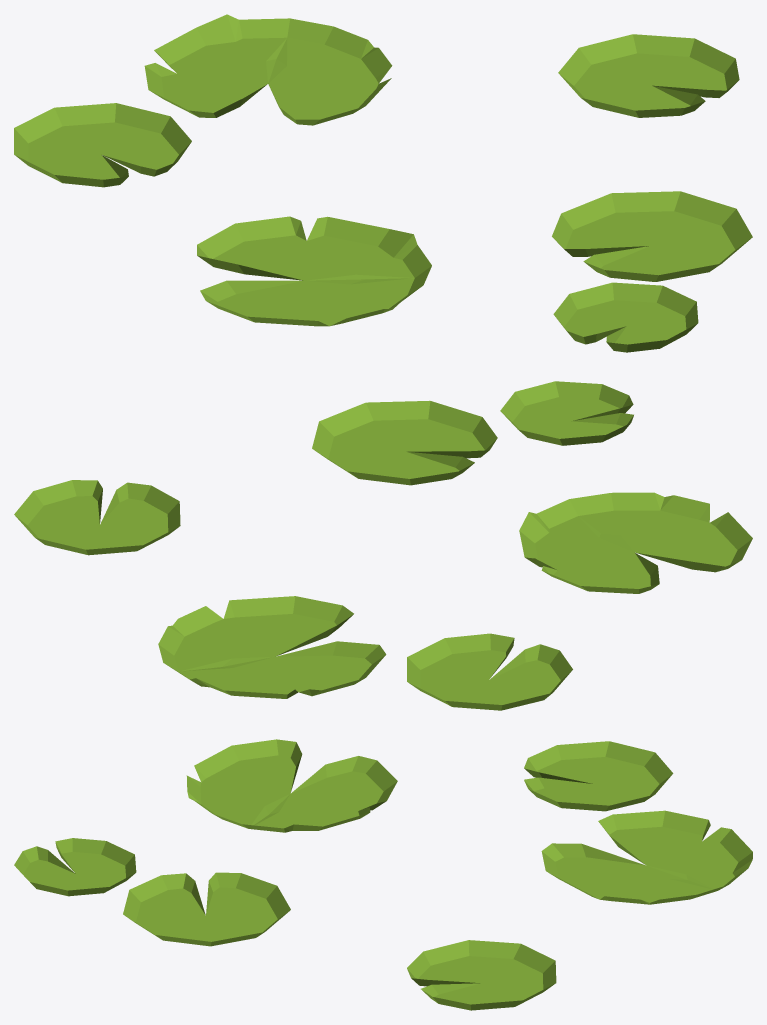
File: SM_Waterlily_Group_A.fbx
3 renders of one model, top to bottom at view 1: azimuth 30°, elevation 25°; view 2: azimuth 150°, elevation 25°; view 3: azimuth 270°, elevation 25°, orthographic. The views are drawn at different scales.
Parts seen in each view (by area): view 1: waterlily-group-a; view 2: waterlily-group-a; view 3: waterlily-group-a.
Part boxes in pixels (x1=…): waterlily-group-a: x1=14, y1=14, x2=752, y2=352; waterlily-group-a: x1=14, y1=381, x2=752, y2=710; waterlily-group-a: x1=14, y1=739, x2=752, y2=1010.
Bounding box in the file's own units: 1.1 × 0.0309 × 1.29.
